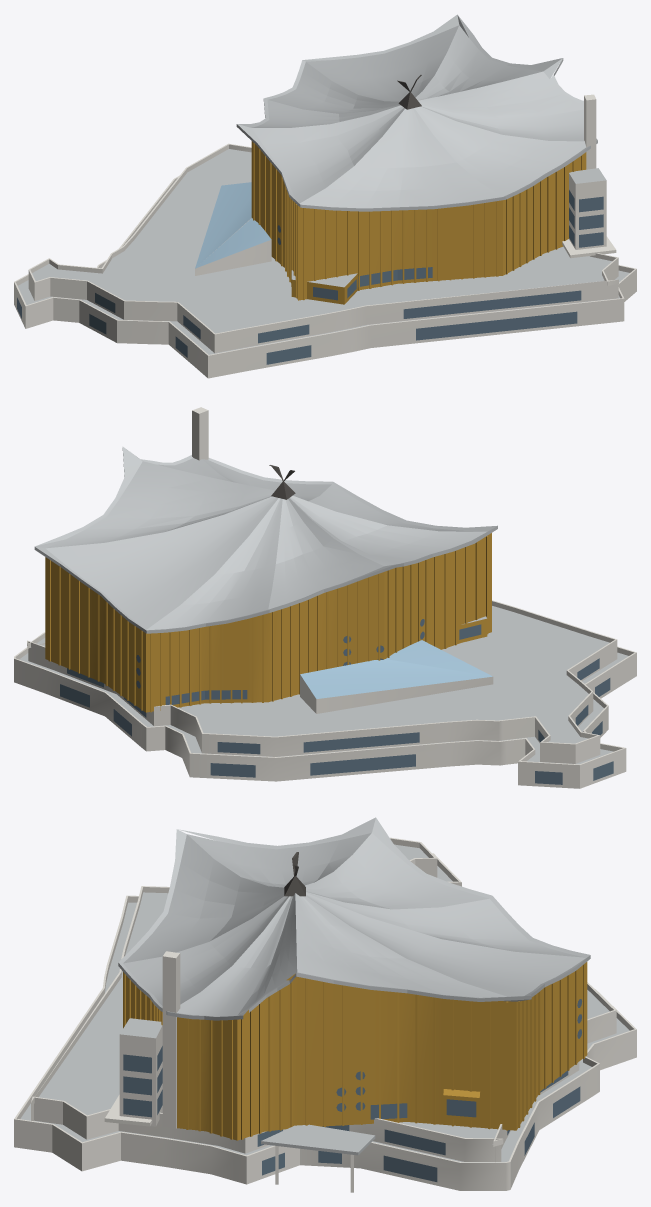
Rendered from berlin-philharmonie.glb.
3 views of the same model, one above another, from view 1: azimuth 30°, elevation 25°; view 2: azimuth 150°, elevation 25°; view 3: azimuth 270°, elevation 25° (orthographic). The views are drawn at different scales.
Parts seen in each view (by area): view 1: Berliner Philharmonie; view 2: Berliner Philharmonie; view 3: Berliner Philharmonie.
Part boxes in pixels (x1,y1,x2,y2): Berliner Philharmonie: [14, 14, 636, 378]; Berliner Philharmonie: [14, 407, 636, 788]; Berliner Philharmonie: [14, 817, 636, 1192].
Size of the model in its own units: 114 by 37.3 by 92.6.
